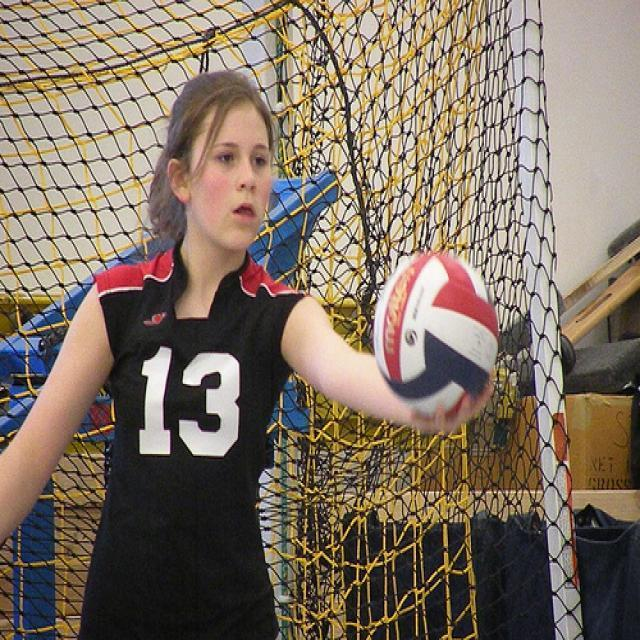volleyball: (373, 254, 499, 418)
